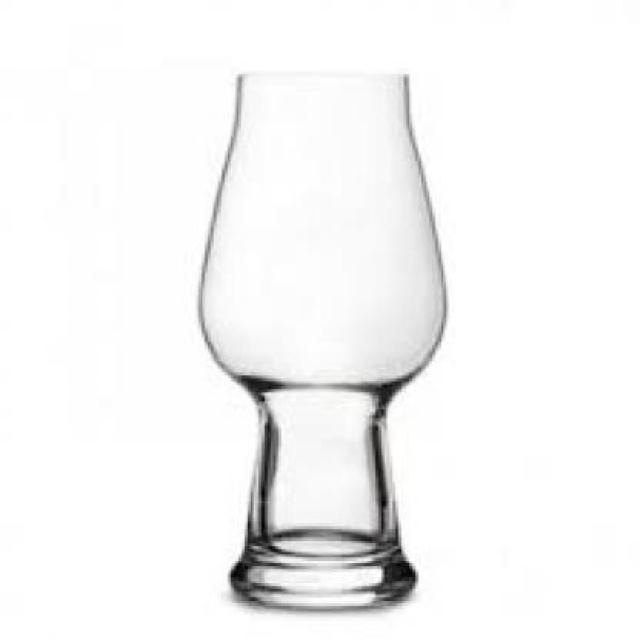kaca: (197, 68, 445, 603)
